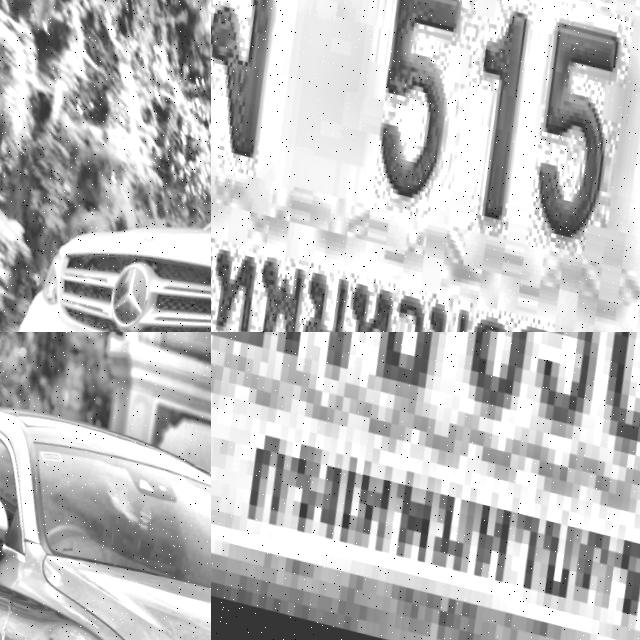license-plate: (211, 0, 640, 332), (211, 332, 640, 640)
